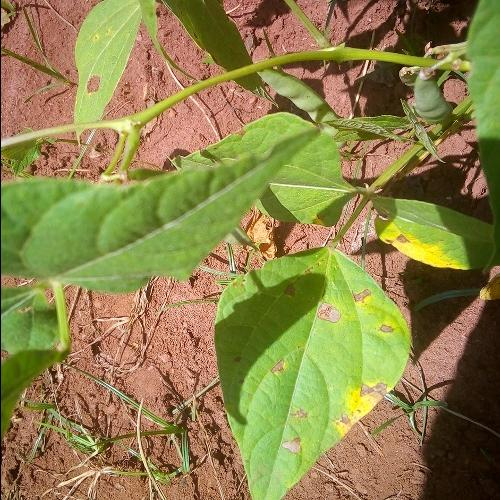mozaik: (277, 240, 410, 464)
